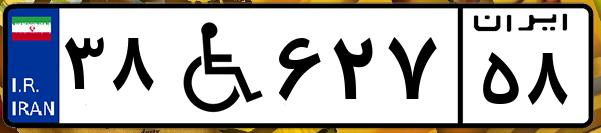2: (330, 28, 385, 110)
3: (57, 26, 110, 100)
5: (475, 38, 525, 113)
6: (270, 28, 330, 110)
7: (385, 28, 445, 110)
8: (525, 38, 570, 115), (110, 28, 158, 98)
ژ (معلولین و جانبازان): (158, 12, 270, 120)
